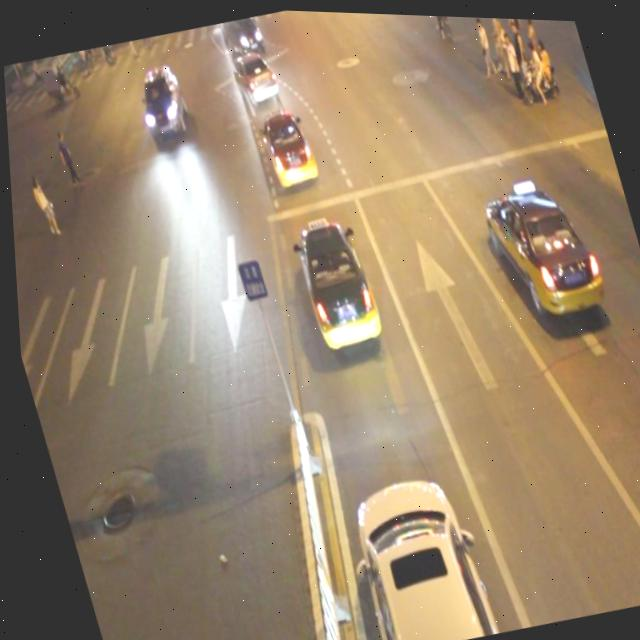car: (328, 459, 494, 640), (475, 171, 604, 325), (285, 210, 382, 351), (255, 102, 319, 189), (130, 60, 191, 135), (227, 48, 281, 109), (220, 13, 266, 58)
